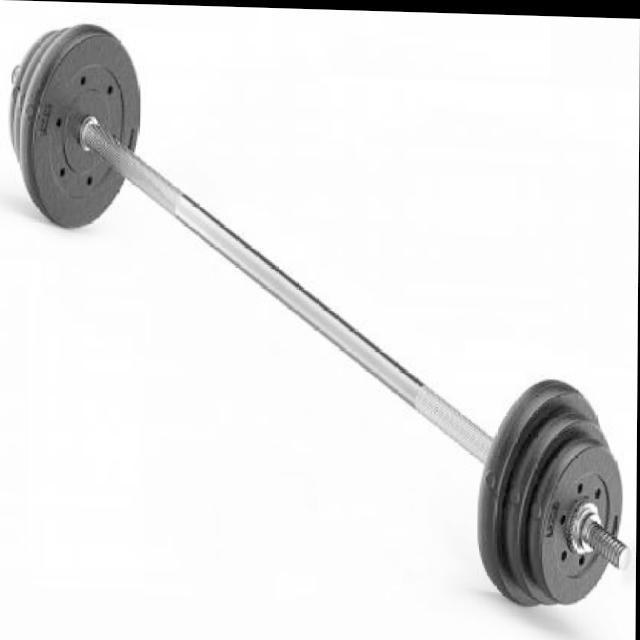barbell: (476, 370, 636, 614)
